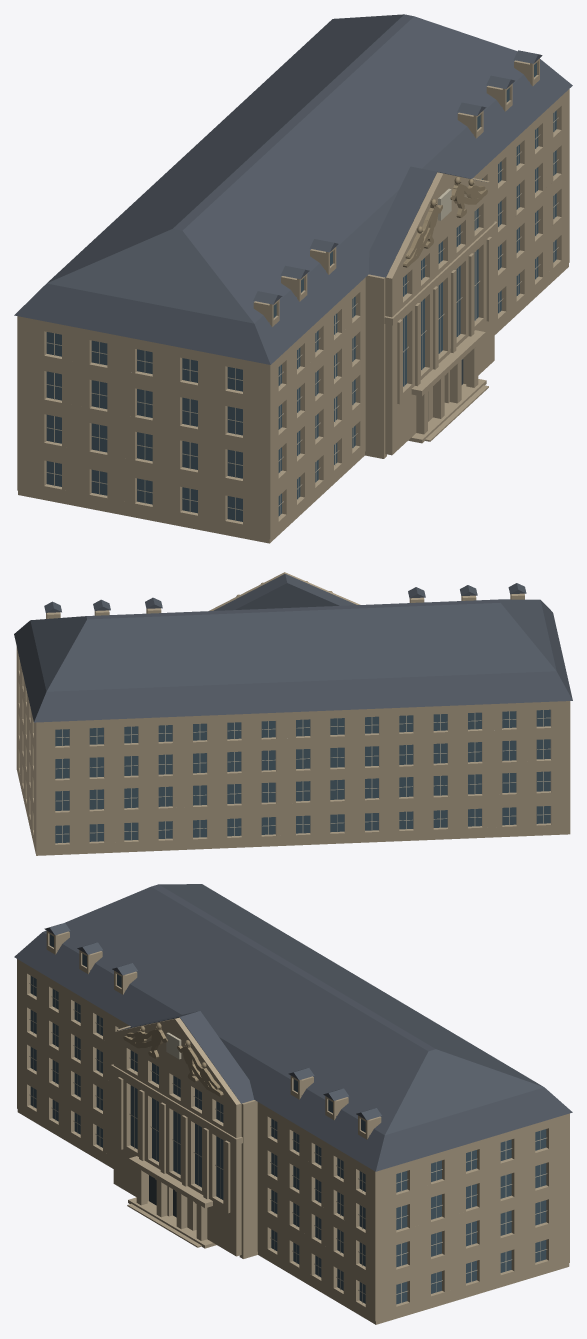
The model's file is esch-sur-alzette-town-hall-far.glb.
3 views of the same model, one above another, from view 1: azimuth 30°, elevation 25°; view 2: azimuth 150°, elevation 25°; view 3: azimuth 270°, elevation 25° (orthographic). The views are drawn at different scales.
Parts seen in each view (by area): view 1: esch-sur-alzette-town-hall-0-stone, esch-sur-alzette-town-hall-0-roof, esch-sur-alzette-town-hall-0-glass, esch-sur-alzette-town-hall-0-trim, esch-sur-alzette-town-hall-0-sculpture; view 2: esch-sur-alzette-town-hall-0-stone, esch-sur-alzette-town-hall-0-roof, esch-sur-alzette-town-hall-0-glass, esch-sur-alzette-town-hall-0-trim; view 3: esch-sur-alzette-town-hall-0-stone, esch-sur-alzette-town-hall-0-roof, esch-sur-alzette-town-hall-0-glass, esch-sur-alzette-town-hall-0-trim, esch-sur-alzette-town-hall-0-sculpture.
Boxes of the visible parts, x1=… form: esch-sur-alzette-town-hall-0-stone: x1=17, y1=58, x2=569, y2=543; esch-sur-alzette-town-hall-0-roof: x1=14, y1=14, x2=572, y2=364; esch-sur-alzette-town-hall-0-glass: x1=46, y1=62, x2=556, y2=521; esch-sur-alzette-town-hall-0-trim: x1=46, y1=112, x2=558, y2=520; esch-sur-alzette-town-hall-0-sculpture: x1=403, y1=176, x2=487, y2=267; esch-sur-alzette-town-hall-0-stone: x1=16, y1=572, x2=570, y2=855; esch-sur-alzette-town-hall-0-roof: x1=14, y1=574, x2=572, y2=722; esch-sur-alzette-town-hall-0-glass: x1=55, y1=709, x2=550, y2=843; esch-sur-alzette-town-hall-0-trim: x1=56, y1=710, x2=550, y2=843; esch-sur-alzette-town-hall-0-stone: x1=17, y1=931, x2=569, y2=1324; esch-sur-alzette-town-hall-0-roof: x1=14, y1=884, x2=572, y2=1171; esch-sur-alzette-town-hall-0-glass: x1=30, y1=934, x2=546, y2=1304; esch-sur-alzette-town-hall-0-trim: x1=29, y1=977, x2=547, y2=1303; esch-sur-alzette-town-hall-0-sculpture: x1=123, y1=1023, x2=223, y2=1096.
Bounding box in the file's own units: 56.25 × 21.2 × 48.48.
